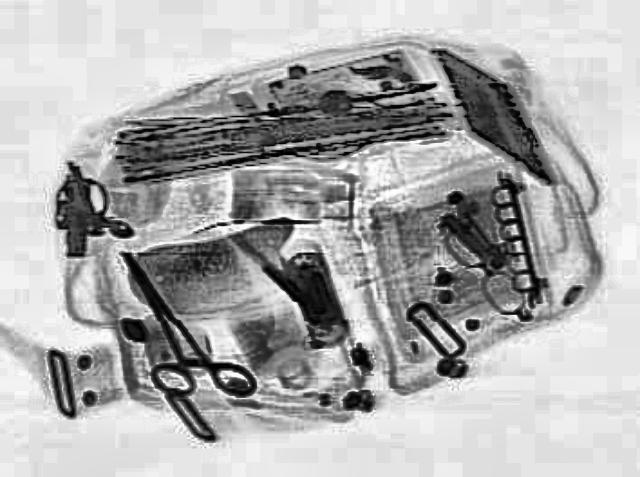Scissors: (80, 238, 260, 414)
